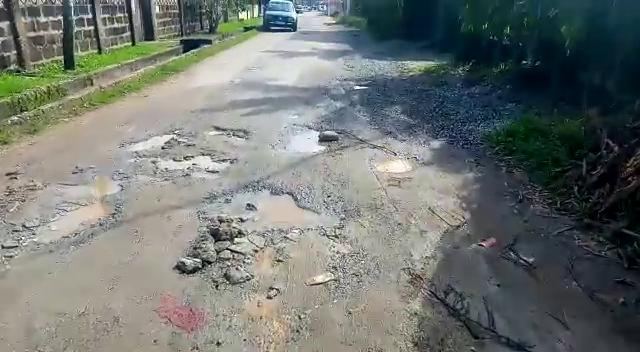pothole: (0, 177, 124, 253), (194, 184, 340, 235), (273, 123, 340, 153), (123, 130, 186, 156), (167, 150, 236, 173), (371, 154, 418, 176), (206, 125, 254, 142)
